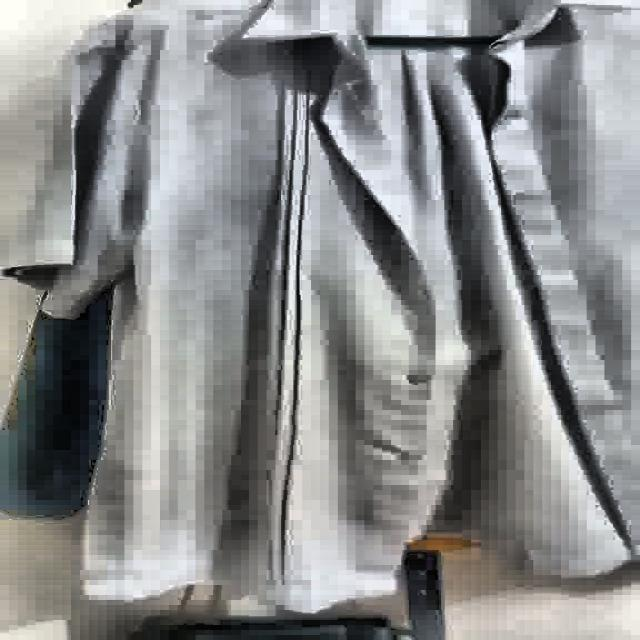clothes: (2, 0, 640, 609)
